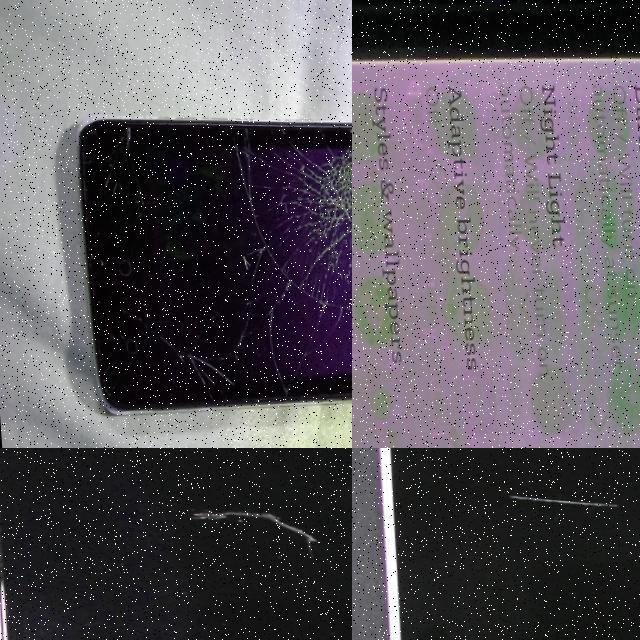scratch: (186, 508, 317, 549), (499, 493, 612, 510)
screen crack: (229, 103, 352, 367), (154, 308, 233, 407), (105, 121, 148, 160)
